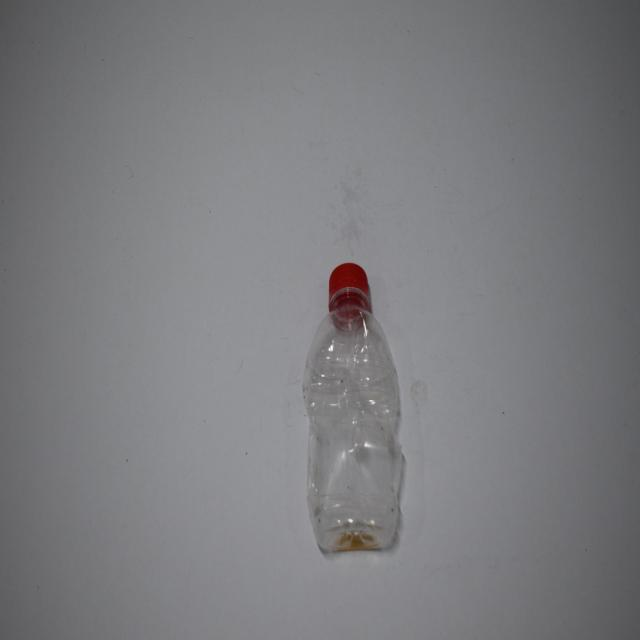bottle: (282, 245, 423, 585)
